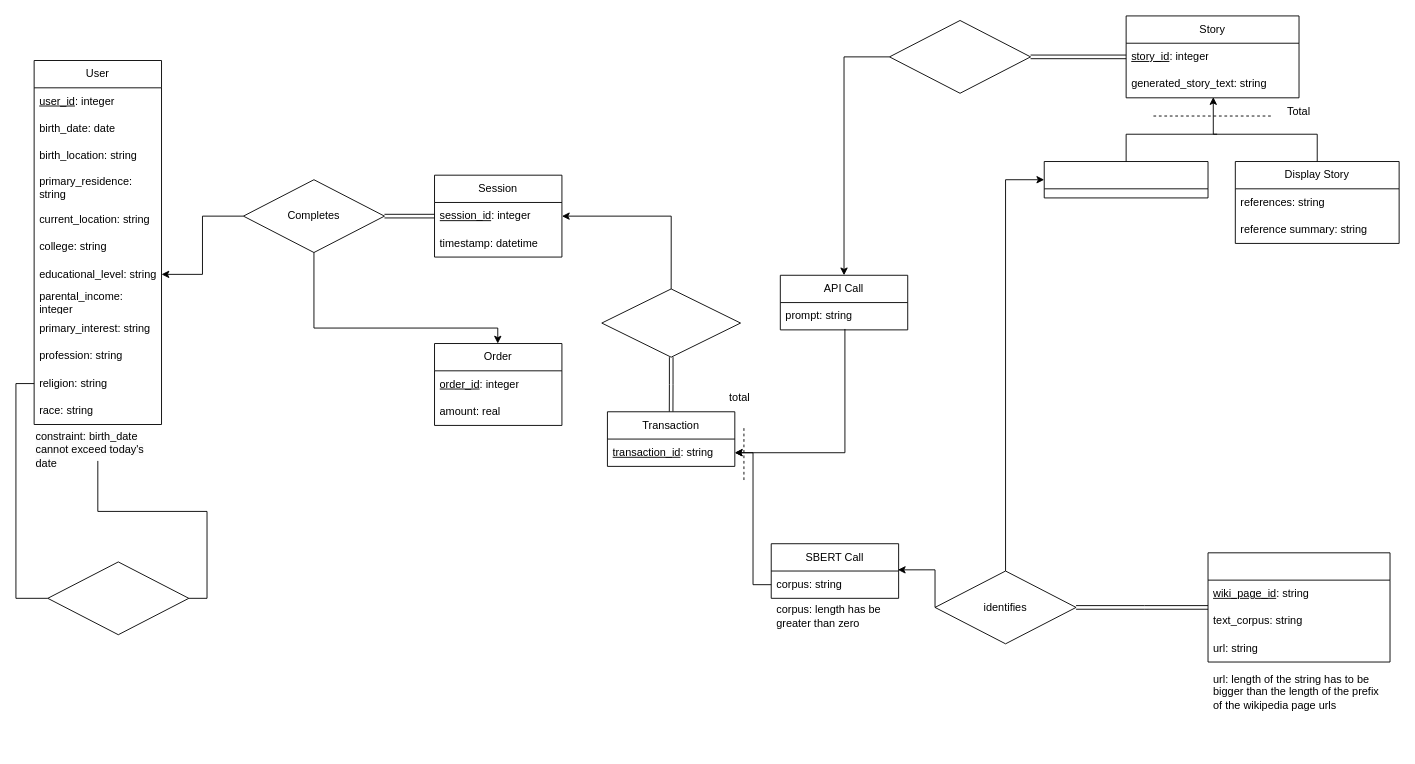
This 1415x764 diagram has some shape labels left out. The shapes that lost their labels are listed below. From the top down, each one's box as (x1, y1, x2, y2) in pixels, then its label:
(889, 20, 1031, 93): Generates
(1043, 161, 1208, 198): Temp Story
(601, 288, 741, 357): Initiates
(47, 561, 189, 635): establishes
(1207, 552, 1390, 662): Wiki Reference
